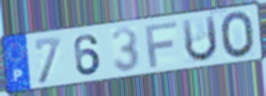3: (111, 25, 140, 76)
6: (72, 33, 102, 76)
7: (32, 34, 64, 85)
F: (143, 20, 179, 70)
O: (219, 10, 257, 61)
U: (180, 13, 220, 65)
